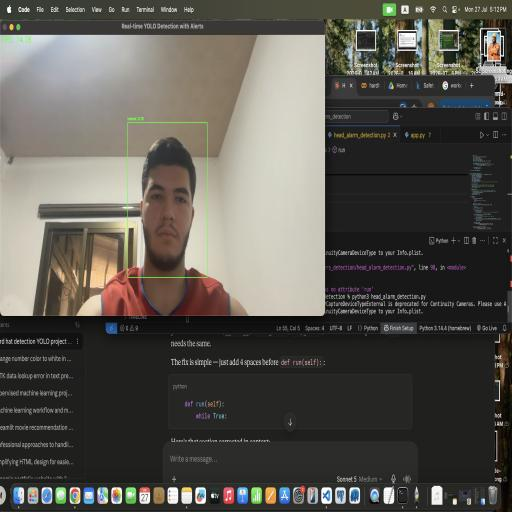head: (126, 126, 208, 277)
